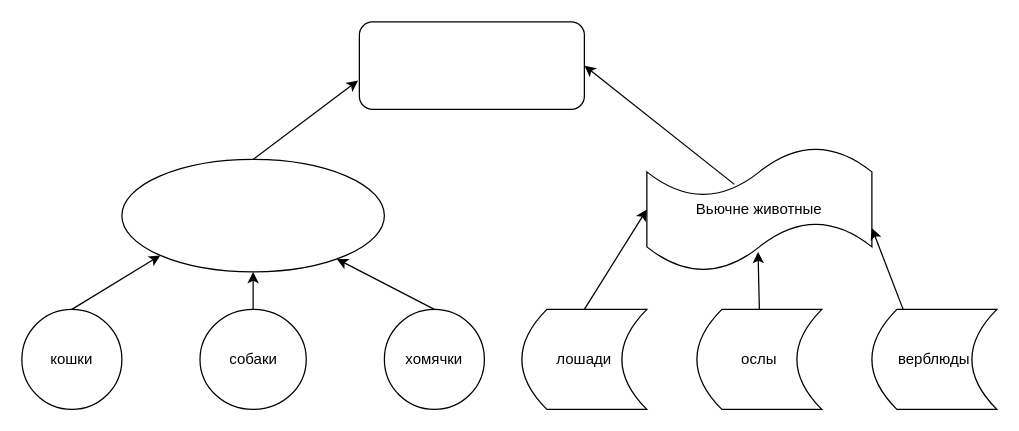
The diagram is 1019 pixels wide and 431 high, and some of its shapes have lost their labels. Here are the shapes that lost their labels. From the top down, the box of each, then its label:
(358, 21, 584, 109): Животные
(121, 158, 384, 272): Домашние животные
